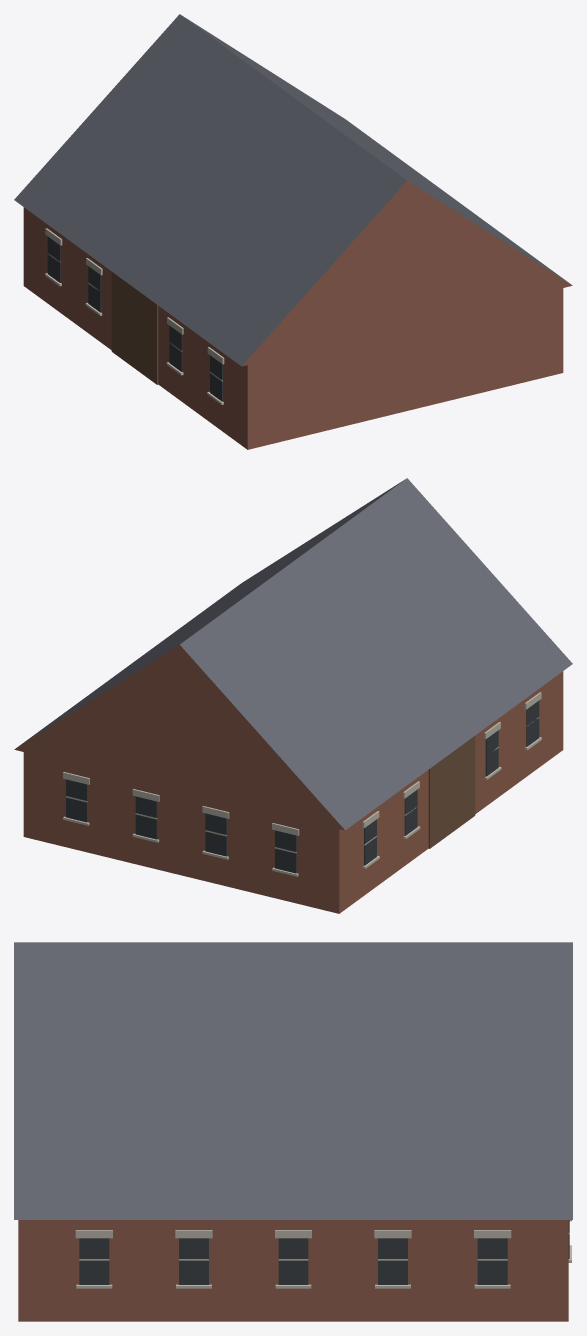
Rendered from dexter_house_1721_prairie_coach_house__draft_1904.glb.
3 renders of one model, top to bottom at view 1: azimuth 30°, elevation 25°; view 2: azimuth 150°, elevation 25°; view 3: azimuth 270°, elevation 25°, orthographic. The views are drawn at different scales.
Parts seen in each view (by area): view 1: dexter_house_1721_prairie_coach_house__draft_1904; view 2: dexter_house_1721_prairie_coach_house__draft_1904; view 3: dexter_house_1721_prairie_coach_house__draft_1904.
Boxes of the visible parts, x1,y1,x2,y2 form: dexter_house_1721_prairie_coach_house__draft_1904: (14,14,572,449); dexter_house_1721_prairie_coach_house__draft_1904: (14,478,572,913); dexter_house_1721_prairie_coach_house__draft_1904: (14,942,572,1321).
Bounding box in the file's own units: 12.6 × 8.43 × 14.99.
